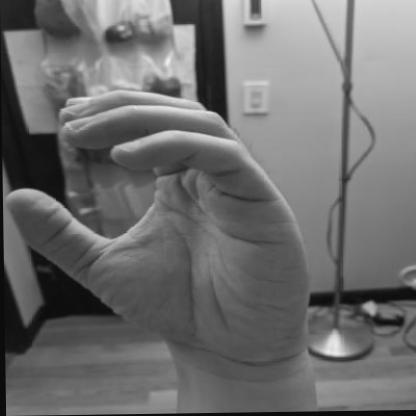C: (1, 84, 319, 370)
